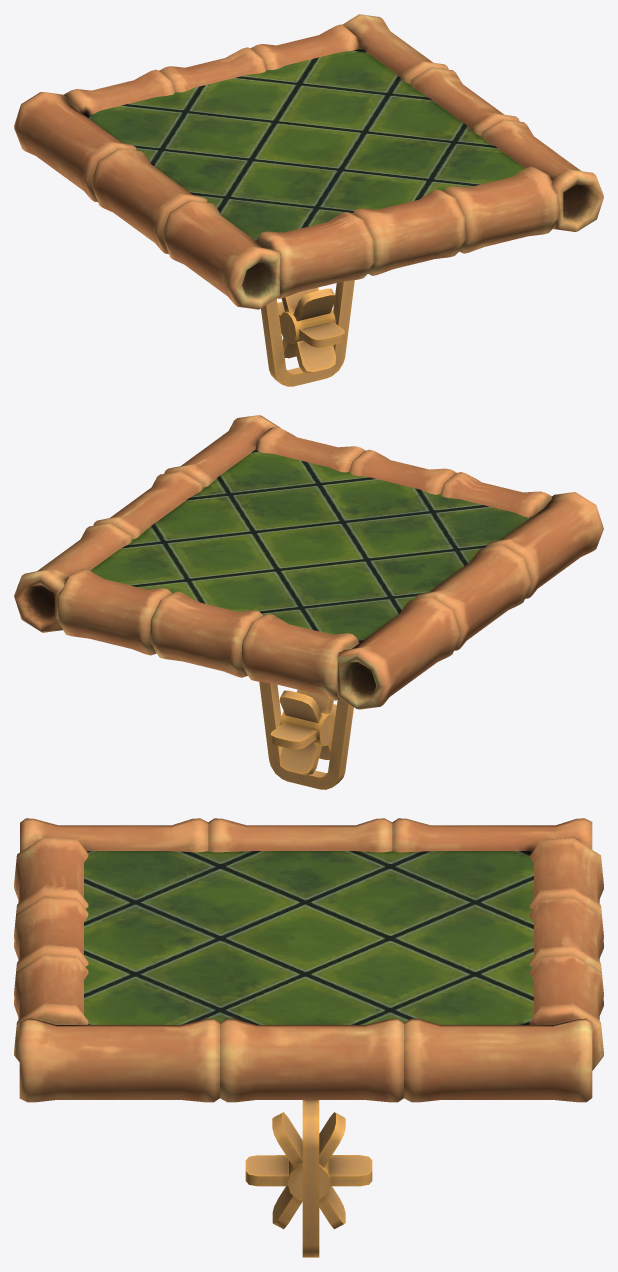
The model's file is Platform.obj.
3 views of the same model, one above another, from view 1: azimuth 30°, elevation 25°; view 2: azimuth 150°, elevation 25°; view 3: azimuth 270°, elevation 25° (orthographic). The views are drawn at different scales.
Visible parts, largest first — view 1: AnyConv.com__Platform; view 2: AnyConv.com__Platform; view 3: AnyConv.com__Platform.
Part boxes in pixels (box(x1,y1,x2,y2)): AnyConv.com__Platform: box(14, 14, 603, 386); AnyConv.com__Platform: box(14, 415, 603, 789); AnyConv.com__Platform: box(14, 818, 603, 1257).
Size of the model in its own units: 14.53 by 9.27 by 15.32.
